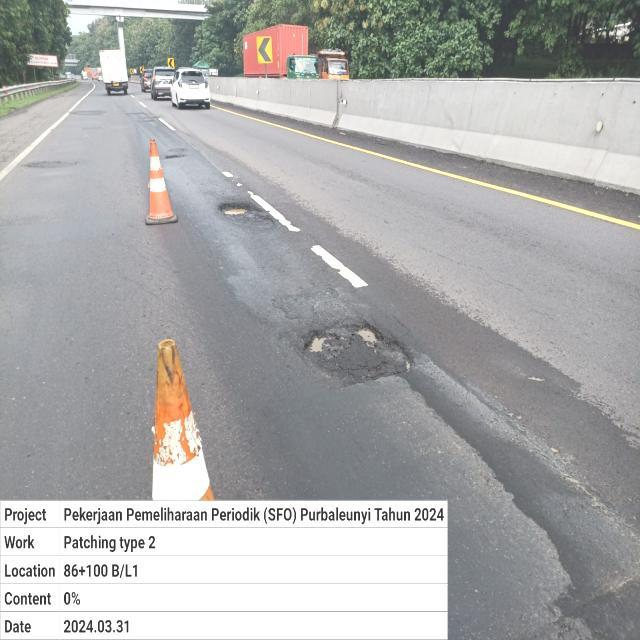Buraco: (297, 318, 418, 382), (217, 200, 277, 230), (163, 152, 188, 161)
